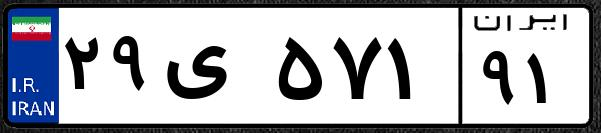1: (385, 28, 445, 110), (525, 38, 570, 115)
2: (57, 26, 110, 100)
5: (270, 28, 330, 110)
7: (330, 28, 385, 110)
9: (475, 38, 525, 113), (110, 28, 158, 98)
ی: (158, 20, 270, 120)
